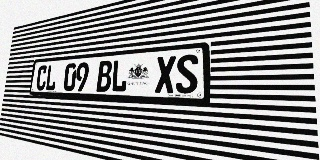0: (63, 63, 77, 91)
9: (75, 62, 89, 91)
B: (96, 60, 113, 92)
C: (36, 65, 48, 90)
L: (111, 59, 128, 92), (45, 64, 58, 91)
S: (175, 54, 198, 94)
X: (155, 56, 176, 93)
